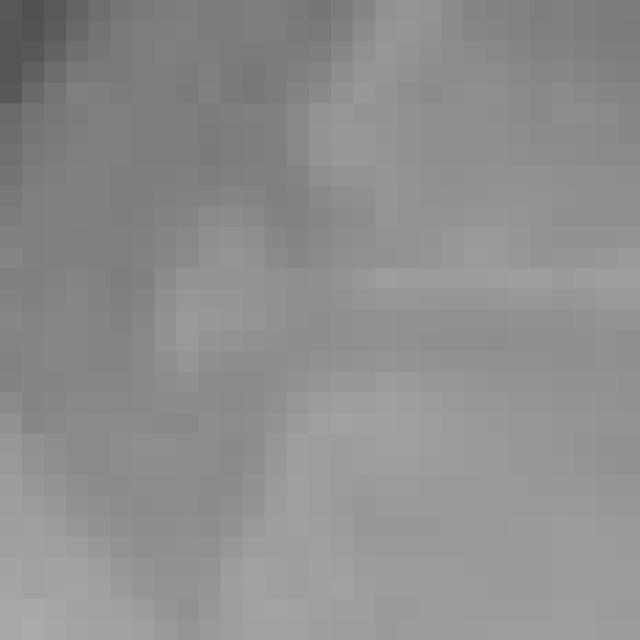fracture: (24, 16, 635, 640)
